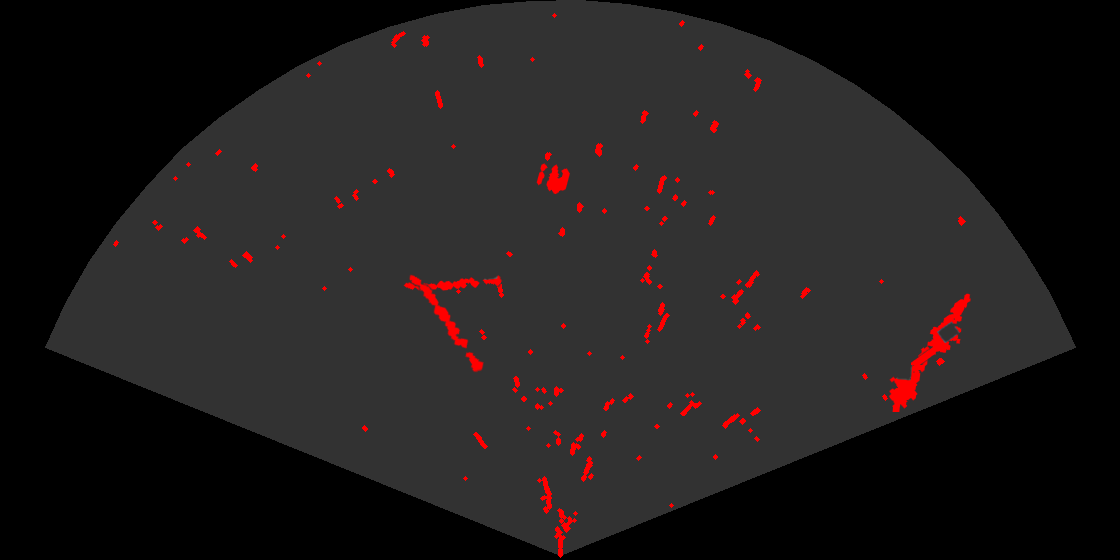ball: (535, 162, 571, 196)
chain: (408, 273, 485, 374), (402, 274, 504, 293)
frogman: (911, 292, 972, 365), (888, 344, 931, 412)
